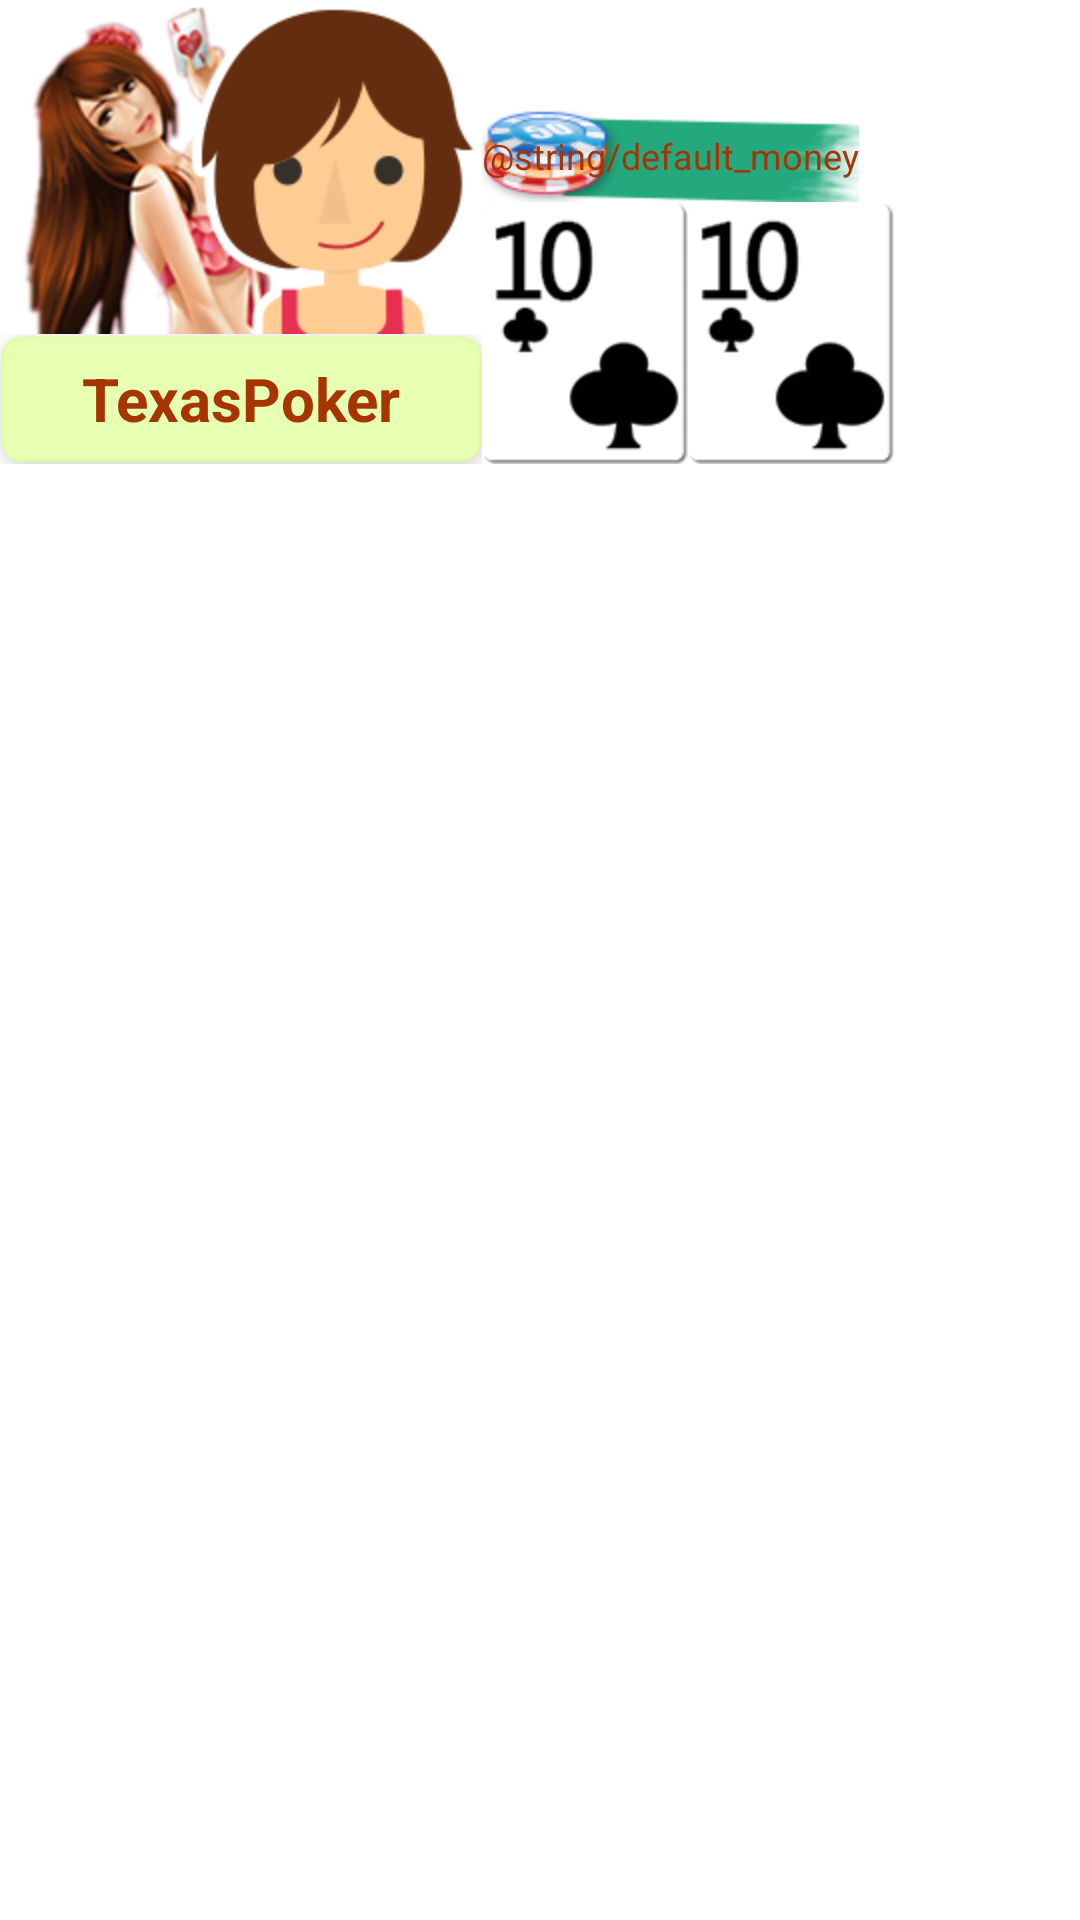

Icons on this 1080 x 1920 Android screen, each with the point to tap as (x=x, y=y):
club: (x=586, y=335), (x=792, y=335)
